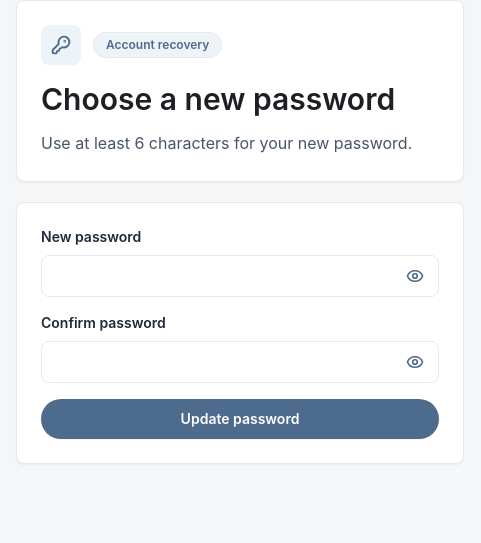
Scenario: ResetPasswordPage › rejects a short password
Step 1. Type "short" into the password field labelled "New password" → (240, 276), box 41,255 -> 439,297
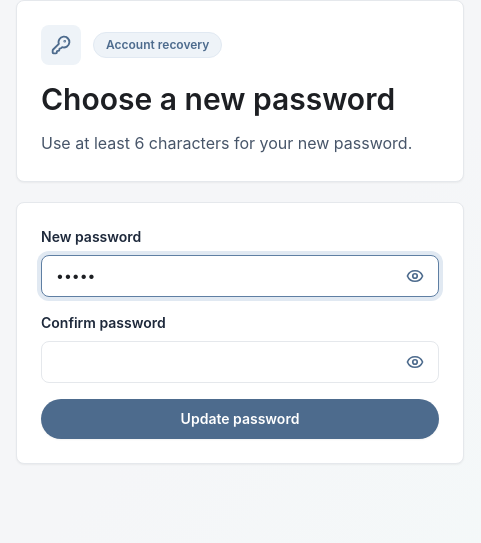
Step 2. Type "short" into the password field labelled "Confirm password" → (240, 362), box 41,341 -> 439,383
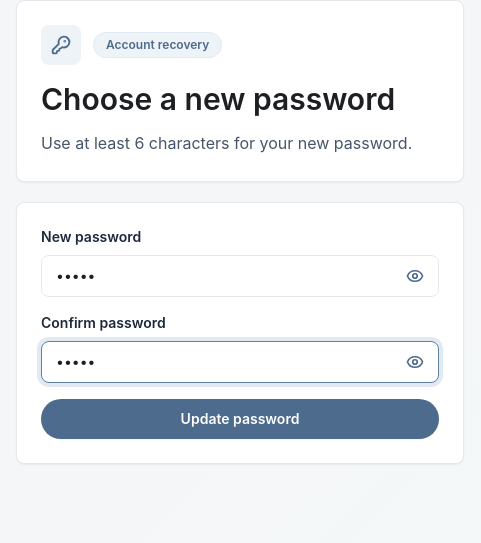
Step 3. Click the button "Update password" → click(240, 419), box 41,399 -> 439,439
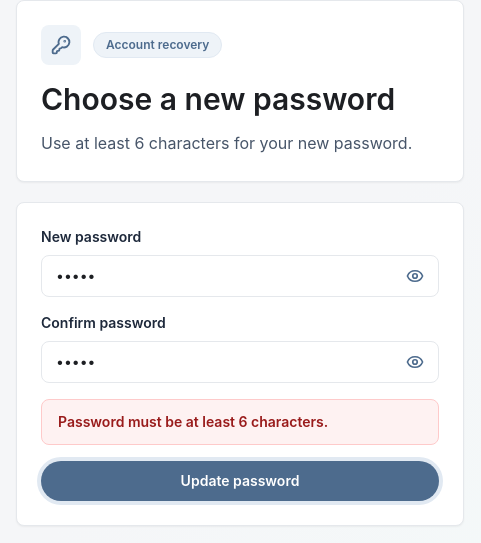
Expected: the text "Password must be at least 6 characters." is shown, 41,399 -> 439,445
